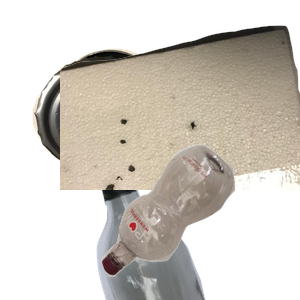glass: (81, 120, 300, 300)
metal: (30, 46, 205, 215)
plastic: (99, 142, 300, 300)
trash: (60, 23, 300, 203)
